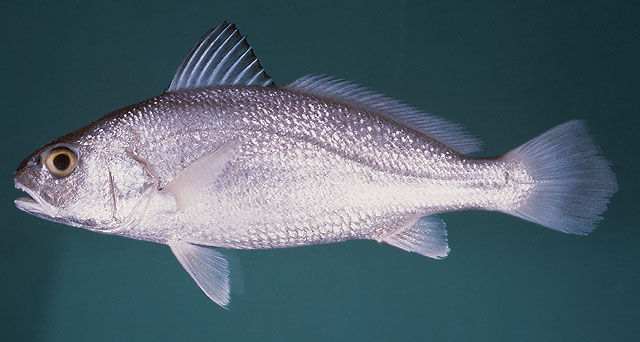fish: (13, 18, 620, 311)
